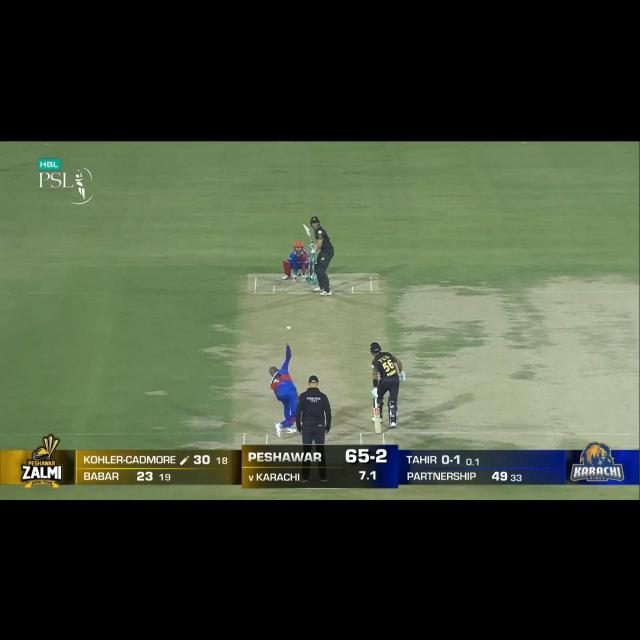bat: (372, 408, 383, 435), (303, 223, 314, 246)
toe: (373, 428, 383, 436), (302, 222, 308, 230)
